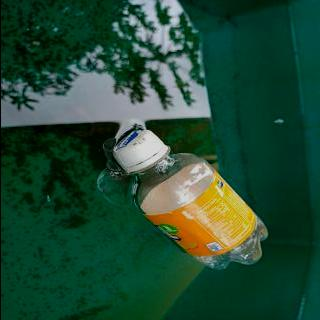bottle: (108, 128, 270, 272)
